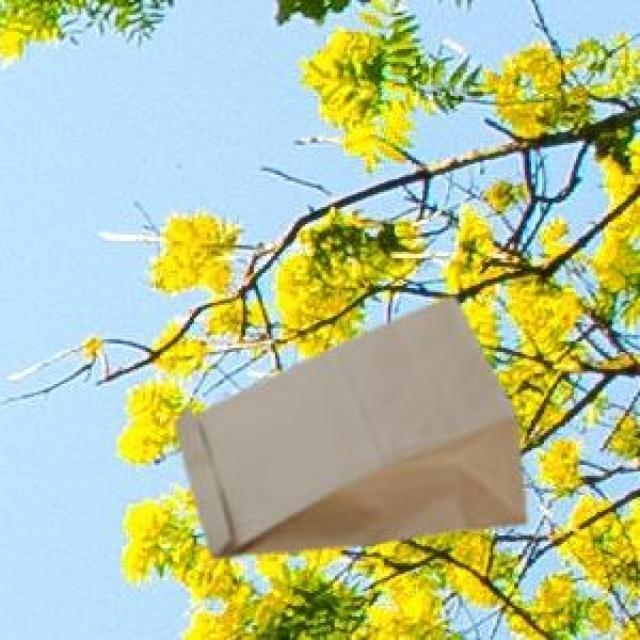paper: (173, 294, 523, 555)
